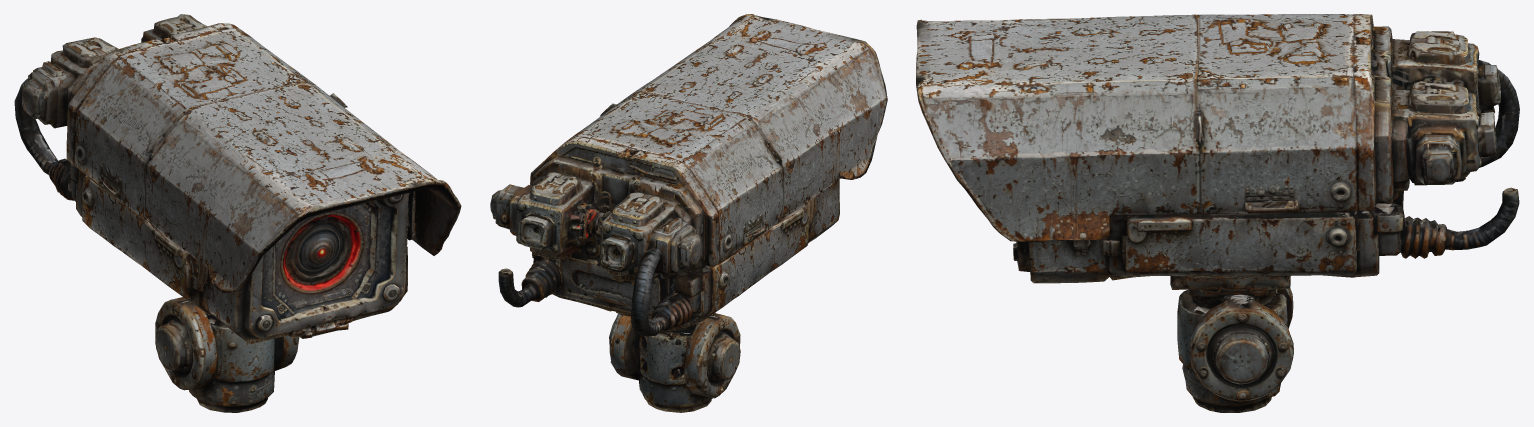
File: BK_CamHead.fbx
The picture shows the model from 3 angles, left to right: view 1: azimuth 30°, elevation 25°; view 2: azimuth 150°, elevation 25°; view 3: azimuth 270°, elevation 25°; orthographic projection. The views are drawn at different scales.
Visible parts, largest first — view 1: texture_mapping; view 2: texture_mapping; view 3: texture_mapping.
Boxes of the visible parts, bbox=[...] form: texture_mapping: bbox=[14, 14, 461, 412]; texture_mapping: bbox=[490, 14, 887, 412]; texture_mapping: bbox=[916, 14, 1519, 412].
Bounding box in the file's own units: 0.4743 × 1 × 0.6556.
1 material, 1 textured.
